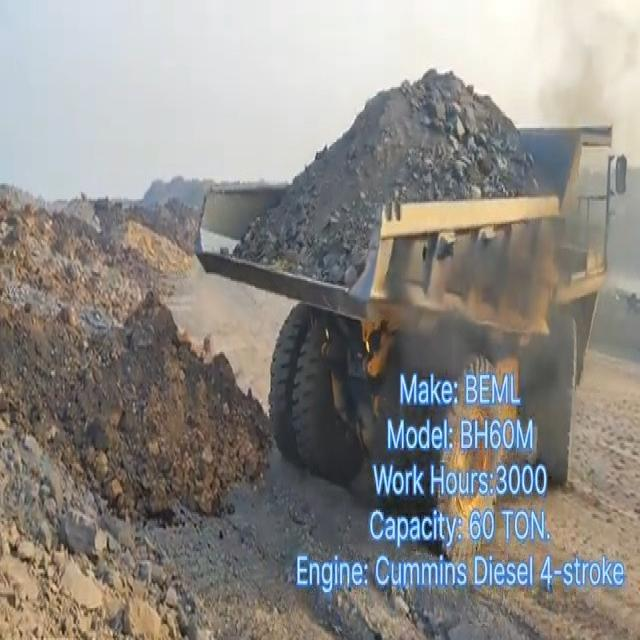dump_truck: (196, 62, 628, 469)
